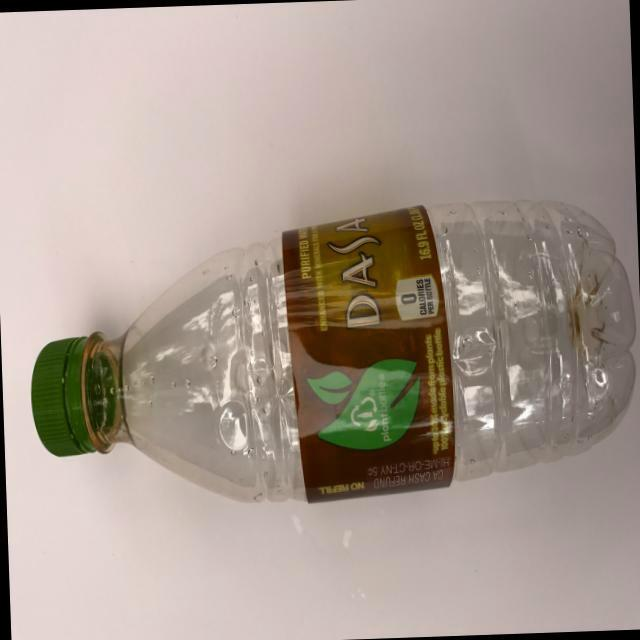plastic: (10, 144, 640, 545)
